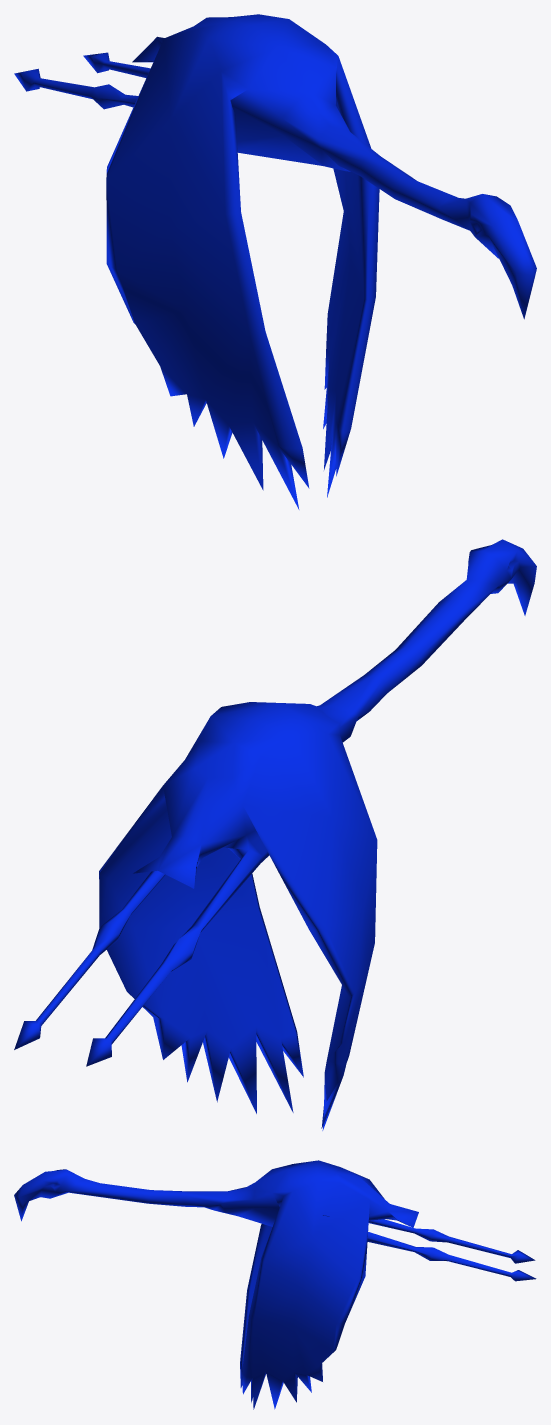
File: flamingo3.glb
The picture shows the model from 3 angles, top to bottom: view 1: azimuth 30°, elevation 25°; view 2: azimuth 150°, elevation 25°; view 3: azimuth 270°, elevation 25°; orthographic projection. The views are drawn at different scales.
Visible parts, largest first — view 1: pink; view 2: pink; view 3: pink.
Boxes of the visible parts, x1=… form: pink: x1=14, y1=14, x2=536, y2=509; pink: x1=14, y1=539, x2=536, y2=1130; pink: x1=14, y1=1160, x2=536, y2=1409.
Bounding box in the file's own units: 52.2 × 89.1 × 177.
